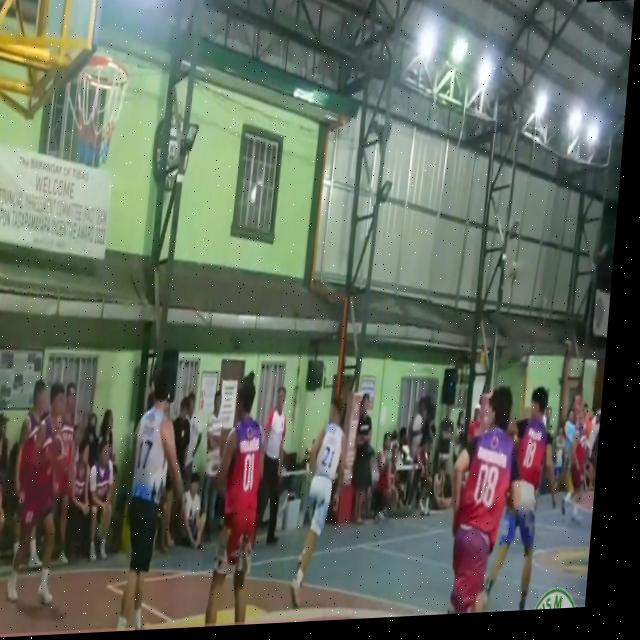basketball: (47, 426, 67, 461)
hoop: (65, 46, 133, 183)
